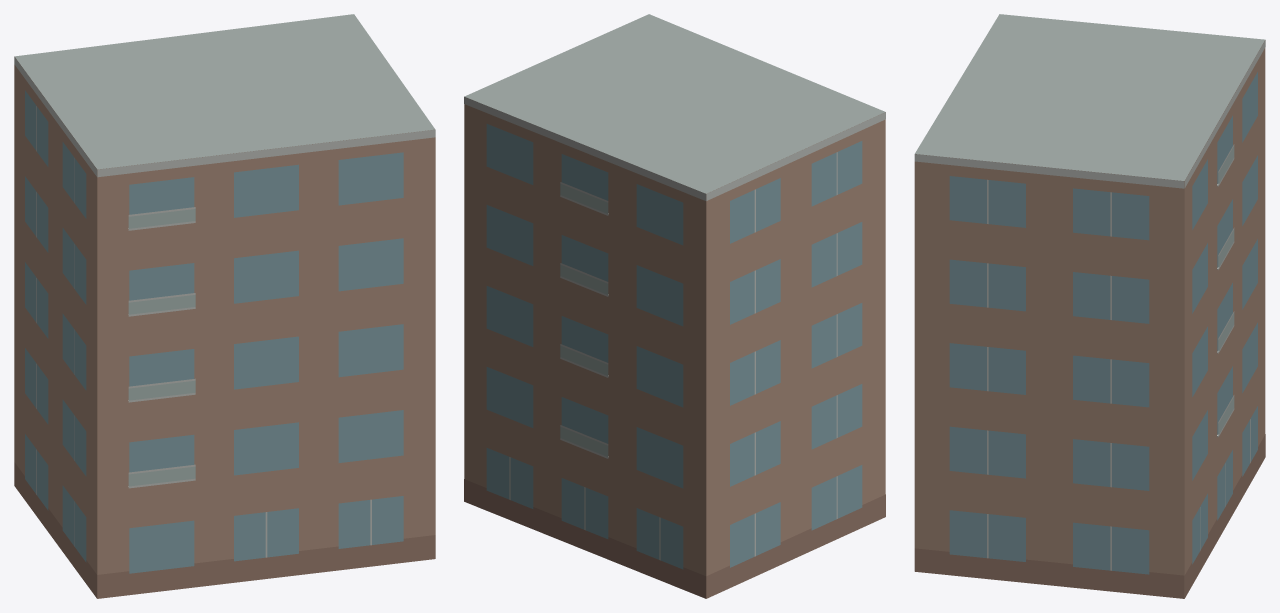
The model's file is survey-upis-32527498.glb.
The picture shows the model from 3 angles, left to right: view 1: azimuth 30°, elevation 25°; view 2: azimuth 150°, elevation 25°; view 3: azimuth 270°, elevation 25°; orthographic projection. The views are drawn at different scales.
Visible parts, largest first — view 1: survey-upis-32527498.tmp; view 2: survey-upis-32527498.tmp; view 3: survey-upis-32527498.tmp.
Boxes of the visible parts, x1,y1,x2,y2 form: survey-upis-32527498.tmp: (14,14,435,598); survey-upis-32527498.tmp: (464,14,885,598); survey-upis-32527498.tmp: (914,14,1265,598).
Size of the model in its own units: 11.5 by 13.4 by 10.21.
